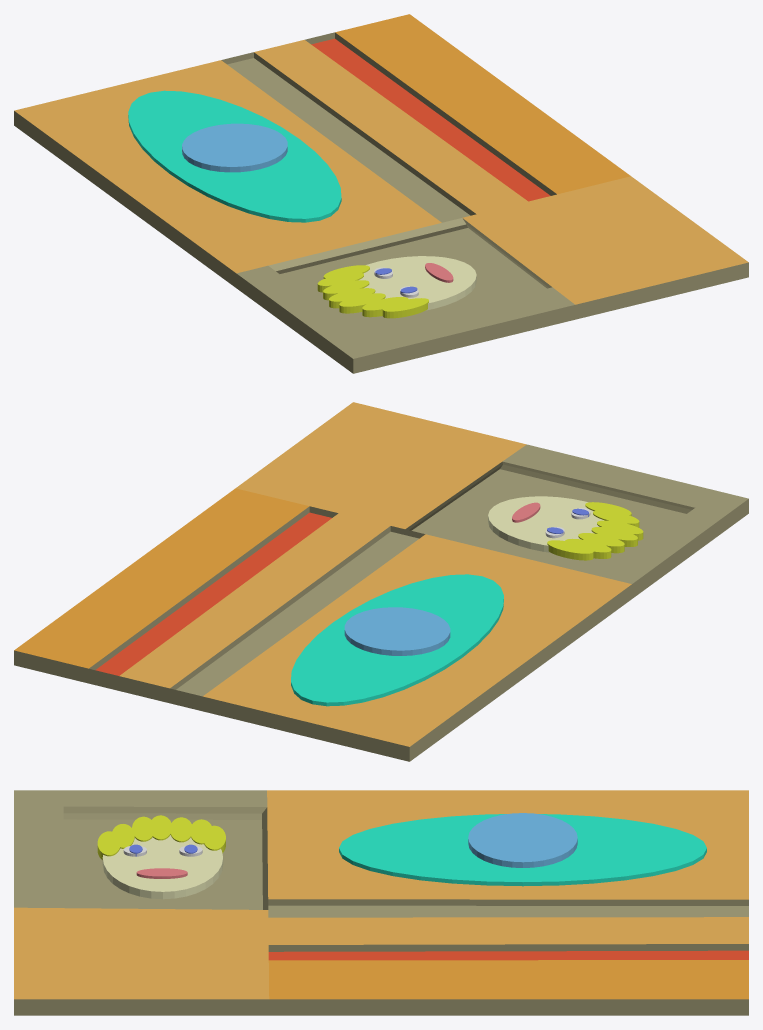
The model's file is IDCARD.fbx.
3 views of the same model, one above another, from view 1: azimuth 30°, elevation 25°; view 2: azimuth 150°, elevation 25°; view 3: azimuth 270°, elevation 25° (orthographic). The views are drawn at different scales.
Parts seen in each view (by area): view 1: Cube, Cube.002, Cylinder.015, Cylinder.016, Cylinder, Cylinder.012; view 2: Cube, Cube.002, Cylinder.015, Cylinder.016, Cylinder, Cylinder.004; view 3: Cube, Cube.002, Cylinder.015, Cylinder.016, Cylinder, Cylinder.004, Cylinder.012, Cylinder.003, Cylinder.006, Cylinder.005, Cylinder.010, Cylinder.007 (+1 smaller).
Part boxes in pixels (box(x1,y1,x2,y2)): Cube: box(14, 14, 748, 373); Cube.002: box(236, 218, 574, 358); Cylinder.015: box(128, 90, 341, 222); Cylinder.016: box(182, 123, 287, 172); Cylinder: box(359, 256, 476, 310); Cylinder.012: box(382, 298, 428, 318); Cube: box(14, 402, 748, 761); Cube.002: box(405, 444, 748, 583); Cylinder.015: box(291, 574, 503, 706); Cylinder.016: box(344, 607, 450, 655); Cylinder: box(488, 496, 603, 552); Cylinder.004: box(547, 540, 593, 560); Cube: box(14, 790, 748, 1015); Cube.002: box(14, 790, 268, 909); Cylinder.015: box(339, 814, 706, 886); Cylinder.016: box(468, 813, 577, 867); Cylinder: box(102, 835, 223, 899); Cylinder.004: box(203, 825, 225, 853); Cylinder.012: box(97, 831, 120, 859); Cylinder.003: box(136, 868, 187, 878); Cylinder.006: box(149, 815, 171, 840); Cylinder.005: box(170, 817, 192, 842); Cylinder.010: box(111, 824, 134, 848); Cylinder.007: box(191, 819, 212, 844).
Bounding box in the file's own units: 114 × 7.73 × 169.
